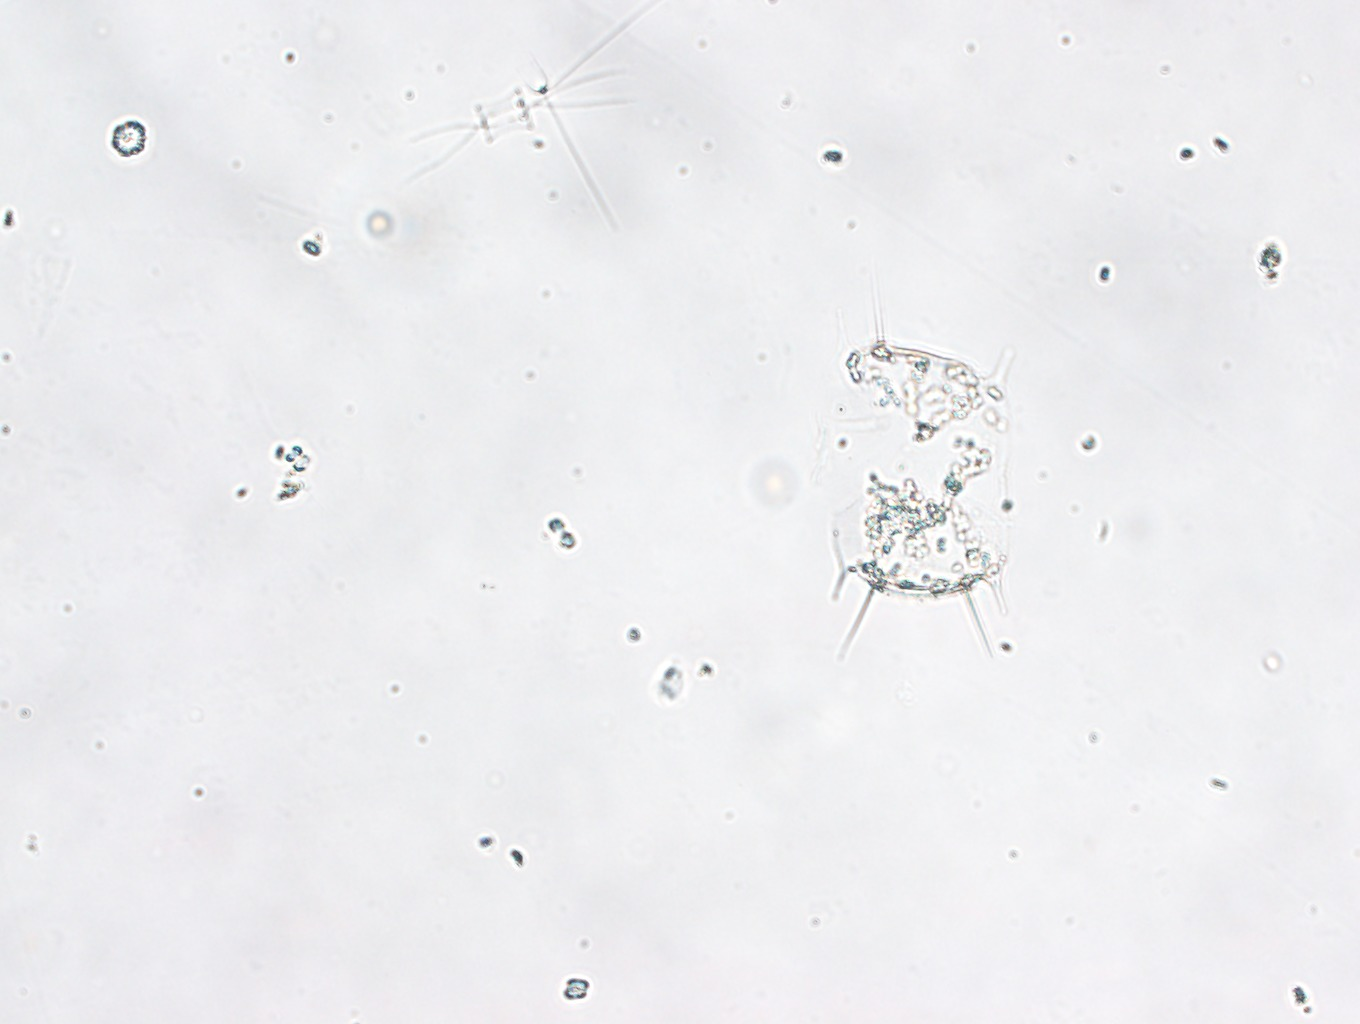biddulphia: (825, 269, 1018, 663)
chaetoceros: (404, 1, 655, 195)
